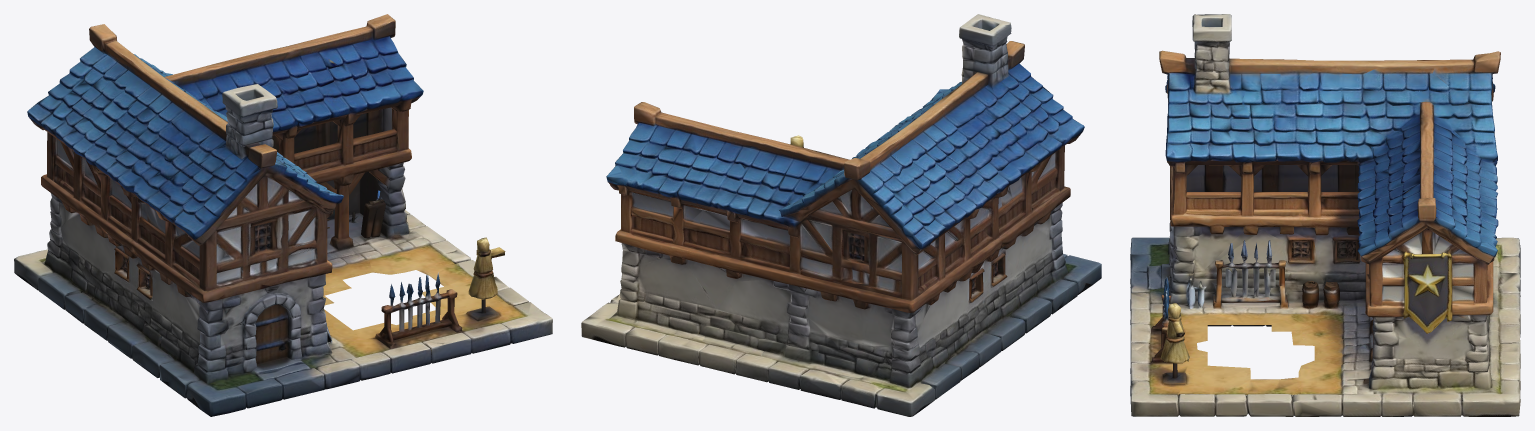
The model's file is barracks-high.glb.
3 renders of one model, left to right at view 1: azimuth 30°, elevation 25°; view 2: azimuth 150°, elevation 25°; view 3: azimuth 270°, elevation 25°, orthographic. The views are drawn at different scales.
Visible parts, largest first — view 1: tripo_node_9ff298f8-7dea-45d6-89e7-8afd8d51ff5a; view 2: tripo_node_9ff298f8-7dea-45d6-89e7-8afd8d51ff5a; view 3: tripo_node_9ff298f8-7dea-45d6-89e7-8afd8d51ff5a.
Boxes of the visible parts, bbox=[...] form: tripo_node_9ff298f8-7dea-45d6-89e7-8afd8d51ff5a: bbox=[14, 14, 552, 416]; tripo_node_9ff298f8-7dea-45d6-89e7-8afd8d51ff5a: bbox=[581, 14, 1101, 416]; tripo_node_9ff298f8-7dea-45d6-89e7-8afd8d51ff5a: bbox=[1130, 14, 1520, 416].
Bounding box in the file's own units: 0.9984 × 0.7593 × 0.9975.
1 material, 1 textured.
